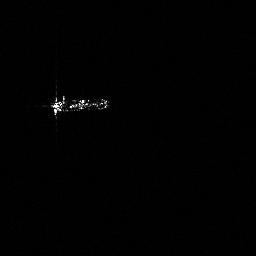ship: (49, 95, 110, 116)
